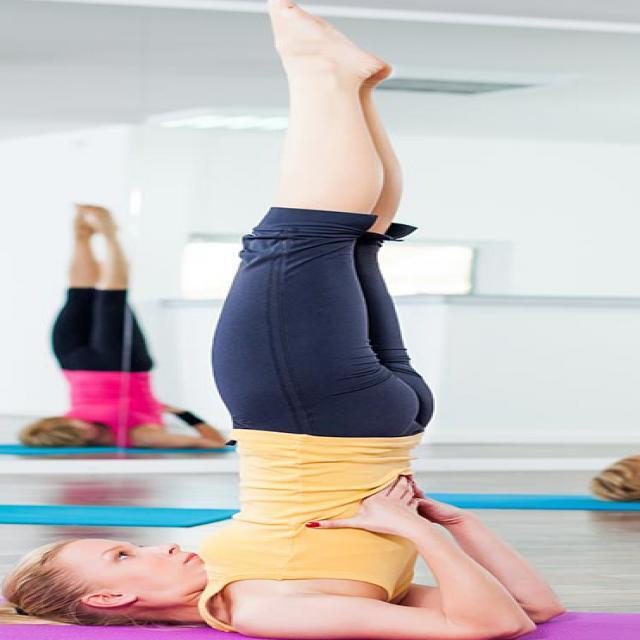yoga-pose shoulderstand: (31, 5, 555, 638), (2, 170, 230, 455)
